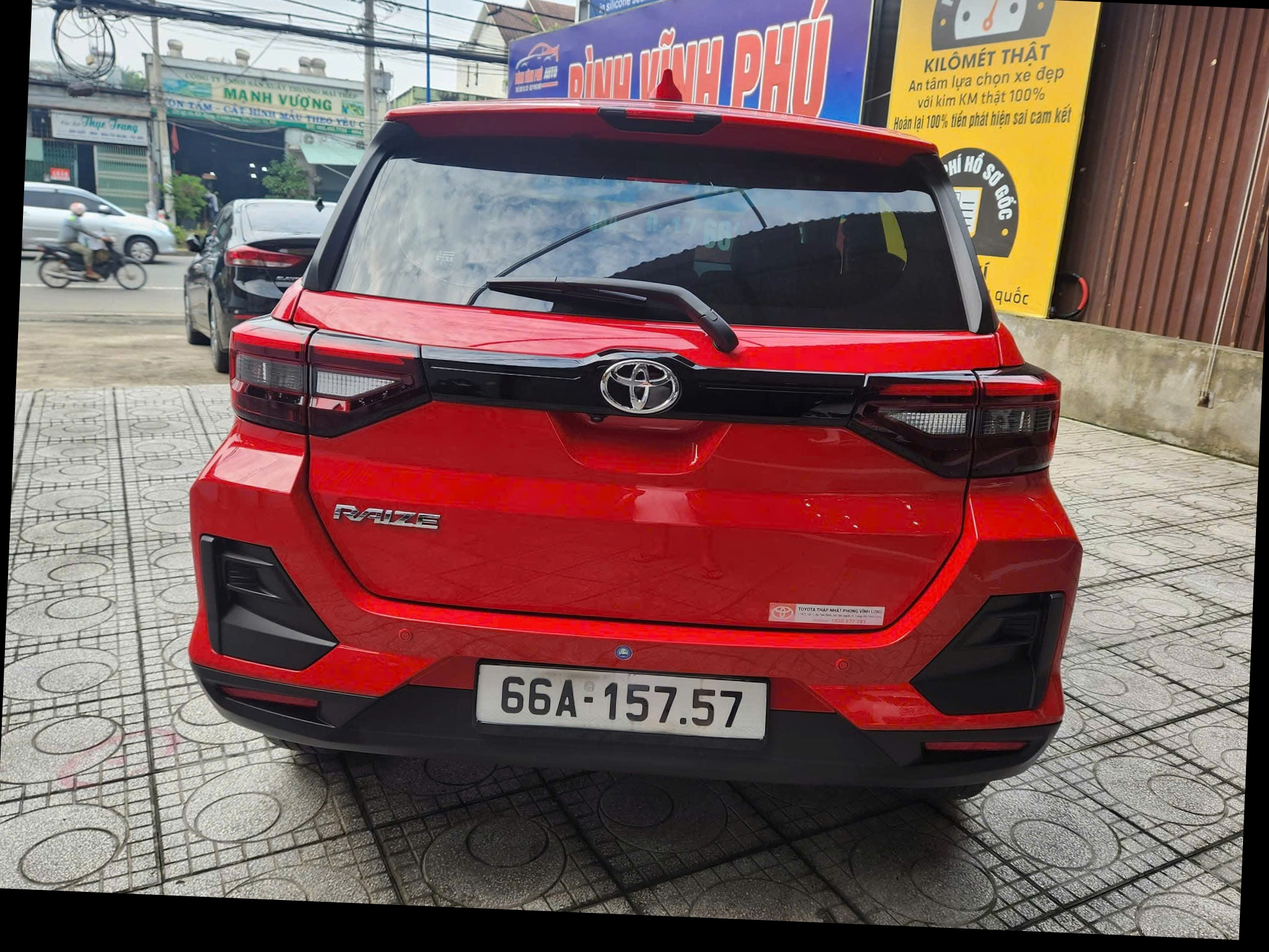Bien-so: (493, 718, 815, 789)
